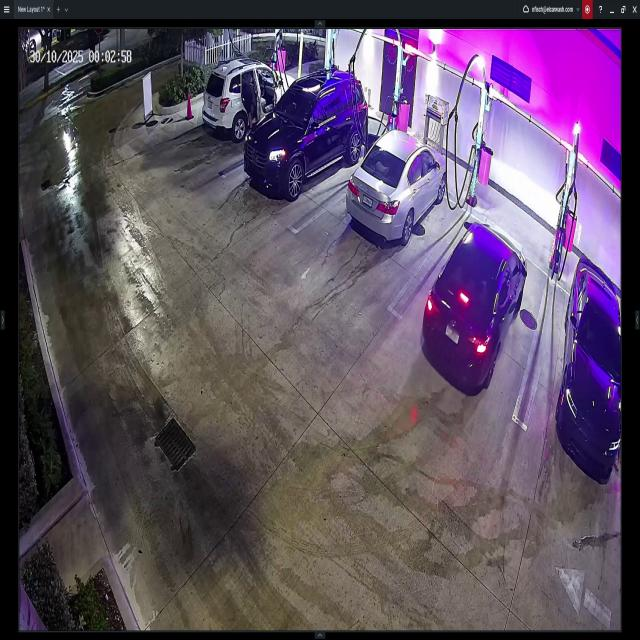Car: (422, 226, 528, 389), (553, 256, 627, 489), (243, 70, 368, 198), (346, 109, 446, 244), (202, 58, 298, 140)
